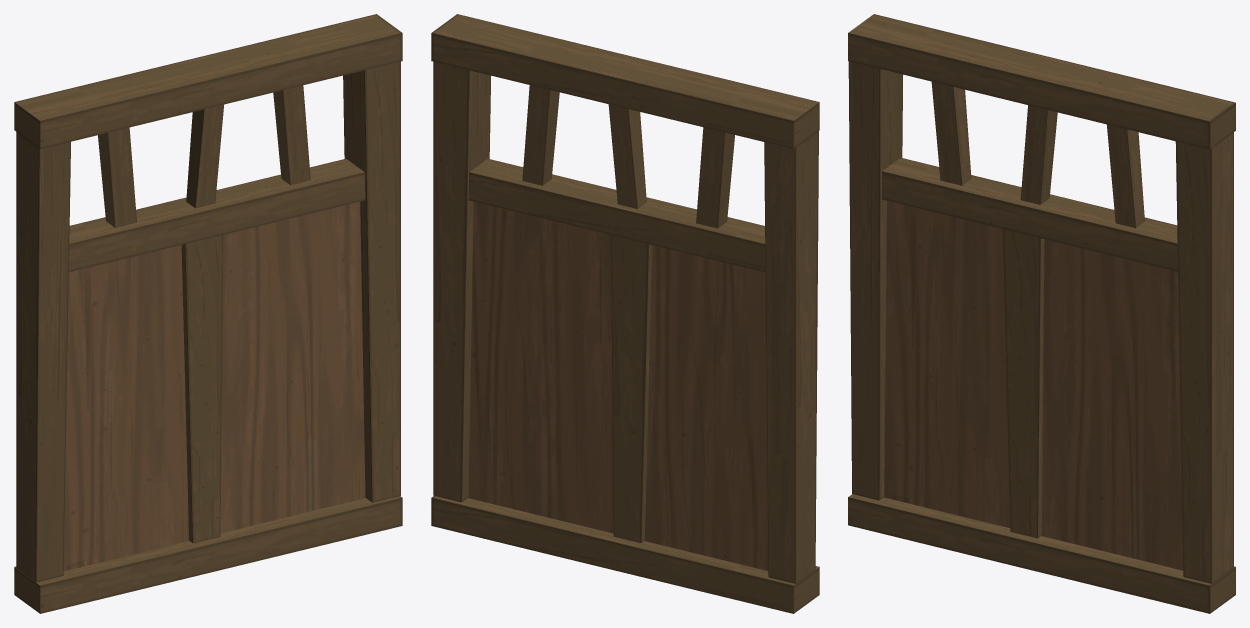
Rendered from SM_building_door_01.glb.
3 renders of one model, left to right at view 1: azimuth 30°, elevation 25°; view 2: azimuth 150°, elevation 25°; view 3: azimuth 330°, elevation 25°, orthographic.
Visible parts, largest first — view 1: SM_building_door_01; view 2: SM_building_door_01; view 3: SM_building_door_01.
Boxes of the visible parts, <box> form: SM_building_door_01: <box>14,14,402,613</box>; SM_building_door_01: <box>431,14,819,613</box>; SM_building_door_01: <box>848,14,1235,613</box>.
Bounding box in the file's own units: 2.5 × 3.25 × 0.3102.
2 materials, 2 textured.
